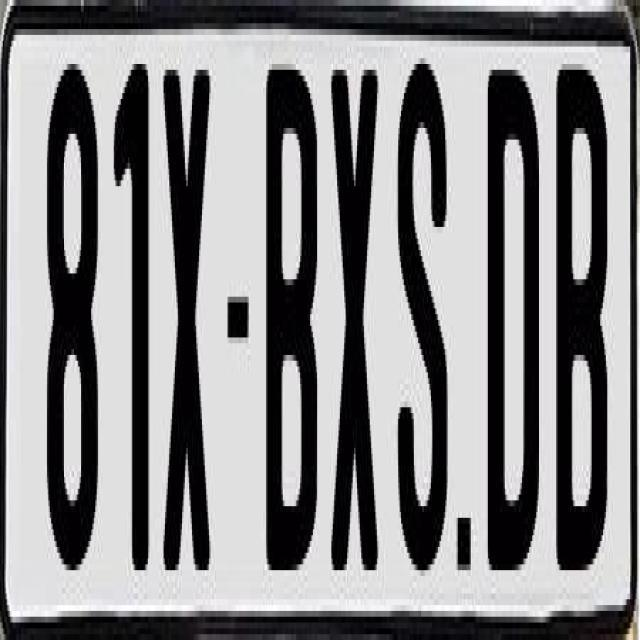1: (112, 64, 156, 605)
8: (42, 52, 98, 576)
B: (262, 70, 318, 570), (556, 70, 607, 600)
D: (488, 58, 545, 594)
S: (398, 58, 448, 570)
X: (328, 64, 376, 576), (160, 70, 208, 570)
